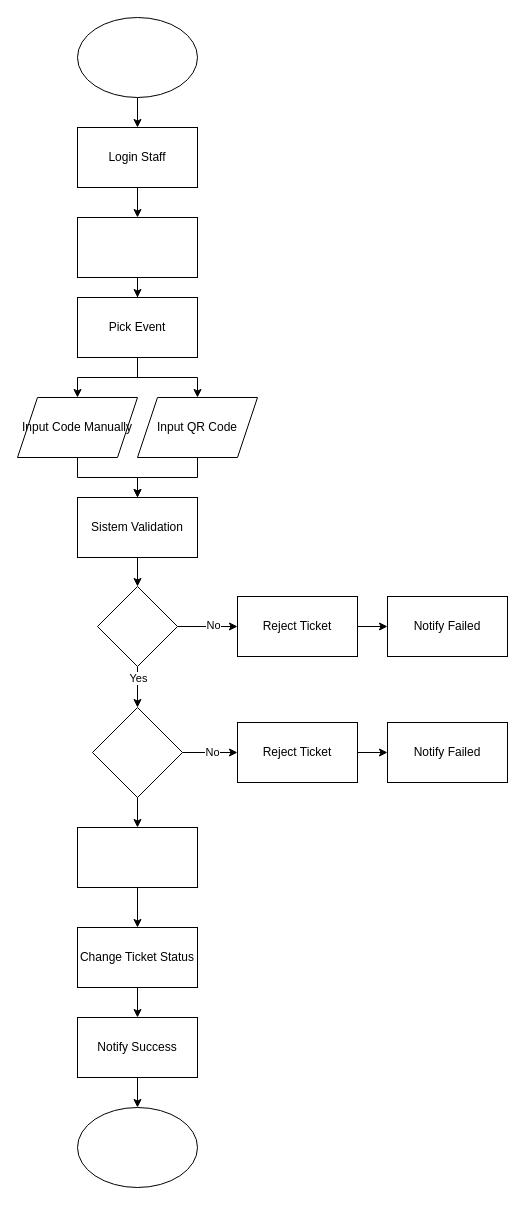
Some shapes in this 525 by 1205 pixel diagram are drawn without their labels. The shapes that lost their labels are listed below. From the top down, each one's centre as x and y in pixels, then its label:
the point at 137,57: Start
the point at 137,247: Ongoing Event Page
the point at 137,626: Code Validity
the point at 137,752: Ticket Redeem Status
the point at 137,857: Ticket Valid
the point at 137,1147: End
